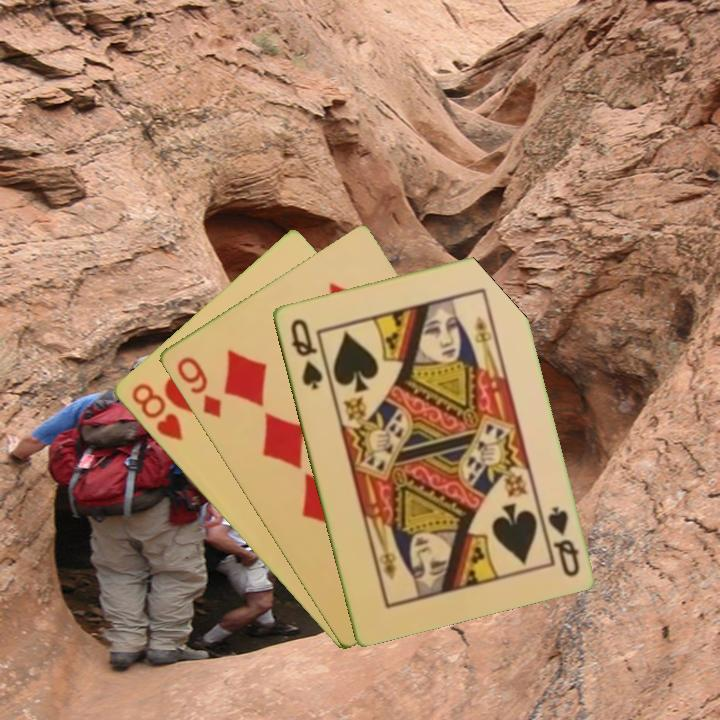8h: (127, 379, 185, 444)
9d: (172, 353, 224, 421)
Qs: (537, 502, 582, 580), (286, 315, 325, 392)
